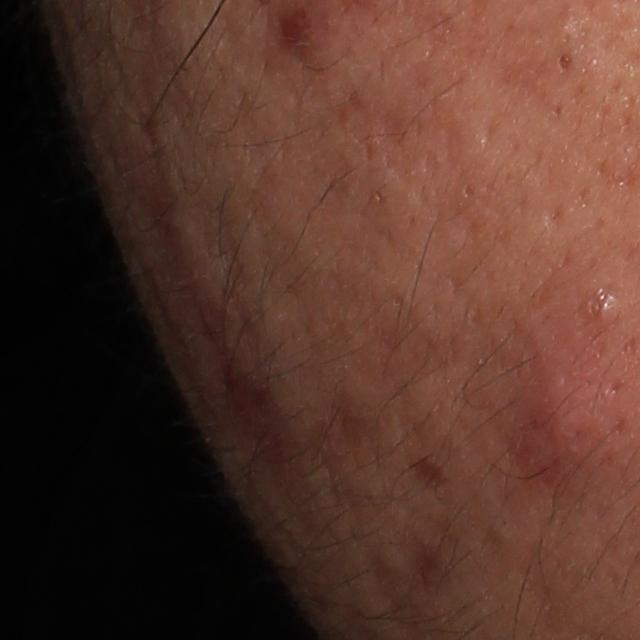comedo: (552, 47, 579, 75), (456, 180, 479, 203)
